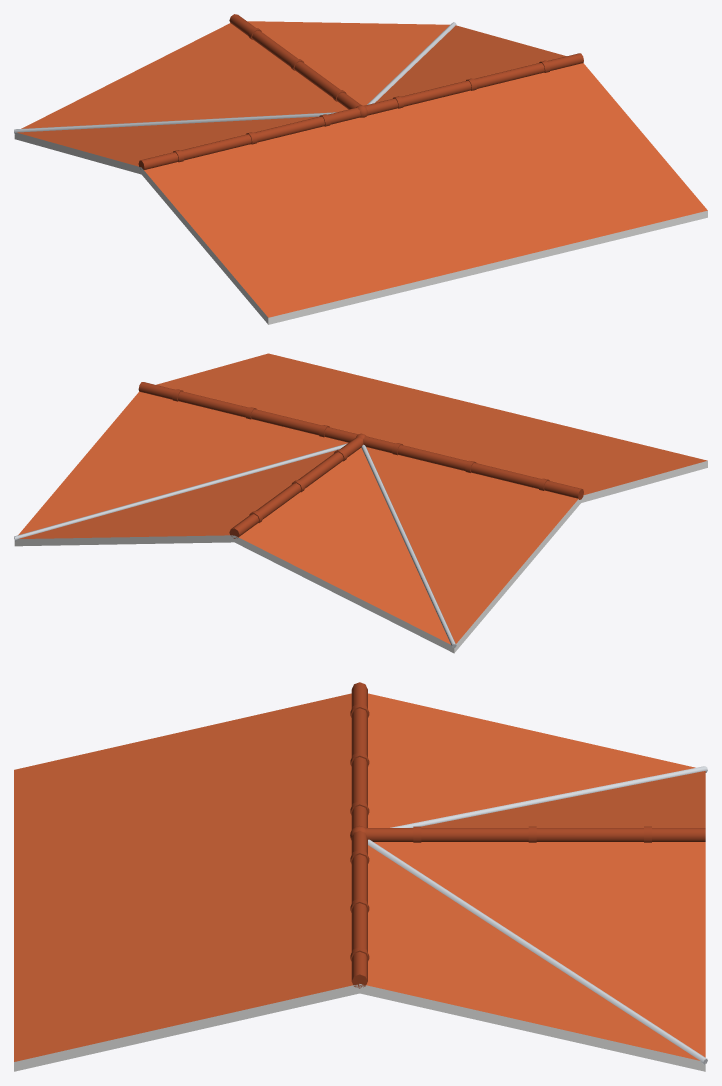
File: telhado_encontro_t_v6_i25.glb
3 renders of one model, top to bottom at view 1: azimuth 30°, elevation 25°; view 2: azimuth 150°, elevation 25°; view 3: azimuth 270°, elevation 25°, orthographic. The views are drawn at different scales.
Visible parts, largest first — view 1: telhado_encontro_t_v6_i25; view 2: telhado_encontro_t_v6_i25; view 3: telhado_encontro_t_v6_i25.
Part boxes in pixels (box(x1,y1,x2,y2)): telhado_encontro_t_v6_i25: box(14, 14, 707, 324); telhado_encontro_t_v6_i25: box(14, 353, 707, 653); telhado_encontro_t_v6_i25: box(14, 682, 707, 1071).
Size of the model in its own units: 6.04 by 0.9478 by 6.02.
4 materials, 1 textured.
